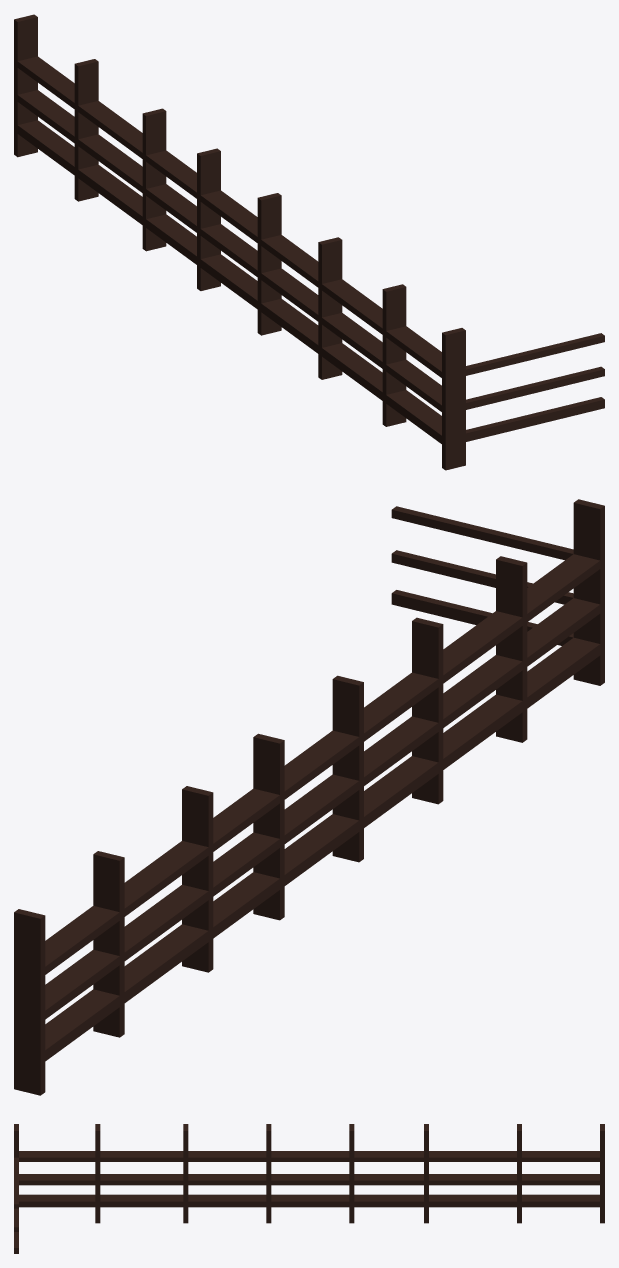
The model's file is plane.008_lev3.glb.
The picture shows the model from 3 angles, top to bottom: view 1: azimuth 30°, elevation 25°; view 2: azimuth 150°, elevation 25°; view 3: azimuth 270°, elevation 25°; orthographic projection. The views are drawn at different scales.
Parts seen in each view (by area): view 1: plane.008_lev3; view 2: plane.008_lev3; view 3: plane.008_lev3.
Boxes of the visible parts, x1,y1,x2,y2 form: plane.008_lev3: [14, 14, 604, 470]; plane.008_lev3: [14, 499, 604, 1095]; plane.008_lev3: [14, 1124, 604, 1253].
Bounding box in the file's own units: 0.4805 × 0.3895 × 2.25.
